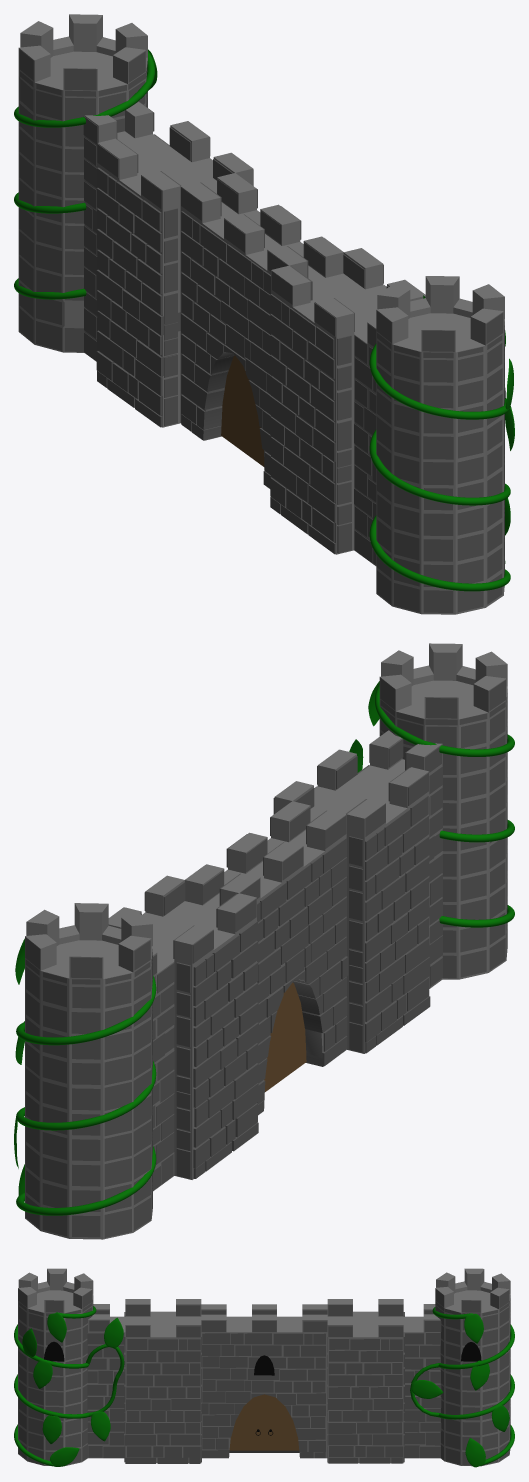
Rendered from Fruit castle final 2.fbx.
The picture shows the model from 3 angles, top to bottom: view 1: azimuth 30°, elevation 25°; view 2: azimuth 150°, elevation 25°; view 3: azimuth 270°, elevation 25°; orthographic projection. The views are drawn at different scales.
Parts seen in each view (by area): view 1: Fruit_castle; view 2: Fruit_castle; view 3: Fruit_castle.
Part boxes in pixels (x1,y1,x2,y2): Fruit_castle: (14, 14, 514, 614); Fruit_castle: (14, 643, 514, 1239); Fruit_castle: (14, 1268, 514, 1467).
Size of the model in its own units: 4.04 by 8.42 by 23.
